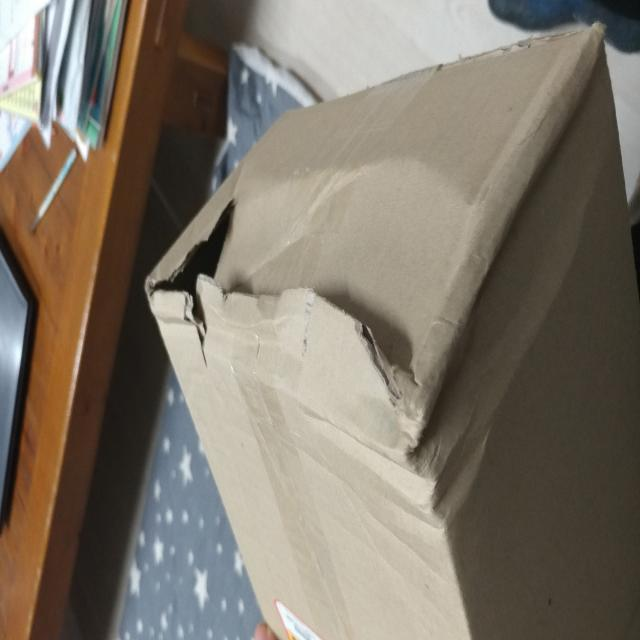hole: (146, 191, 236, 334)
